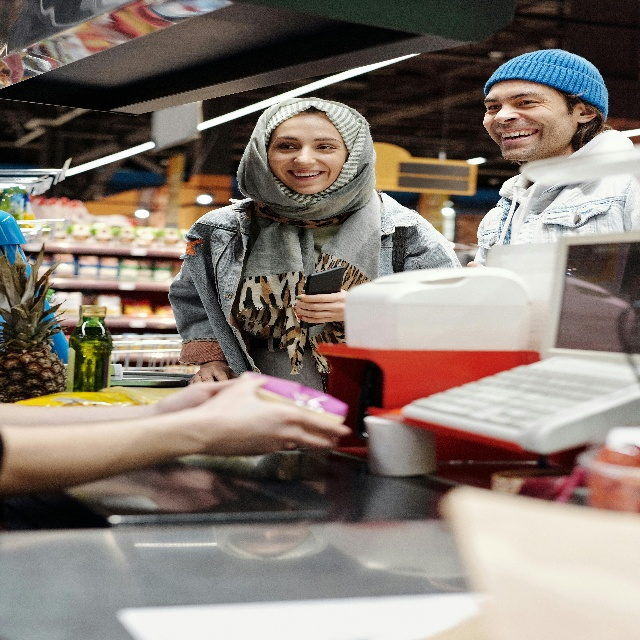Sin_guantes: (196, 371, 352, 460), (294, 284, 348, 325), (187, 371, 238, 408), (189, 358, 238, 384)
